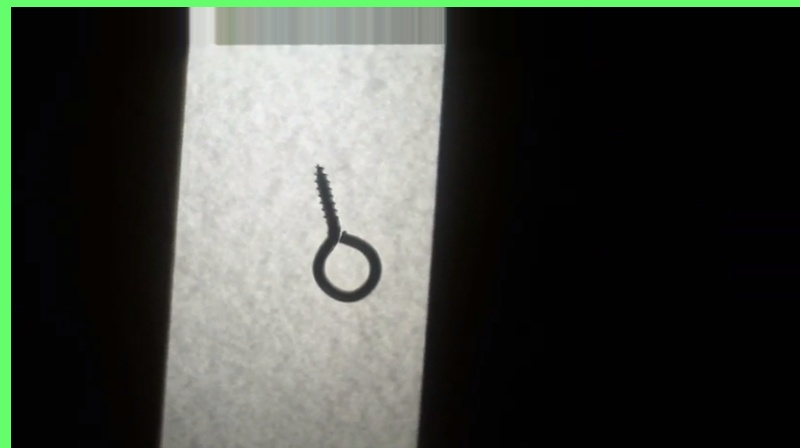O001: (308, 160, 387, 302)
